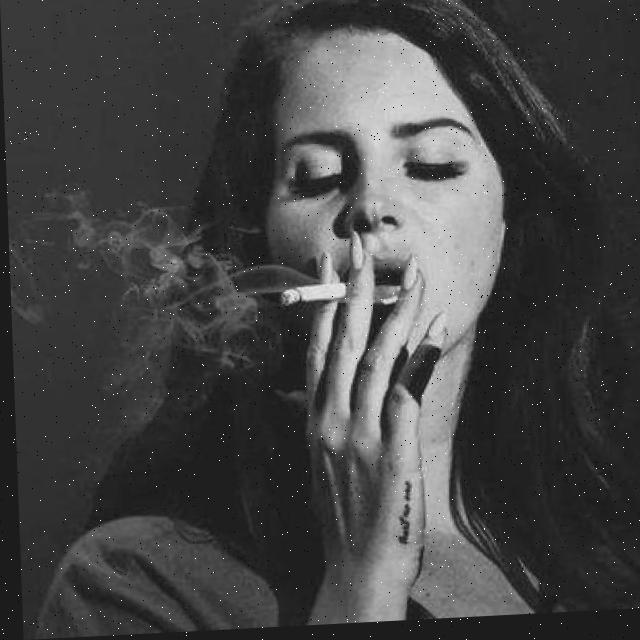cigarette: (279, 286, 345, 309)
